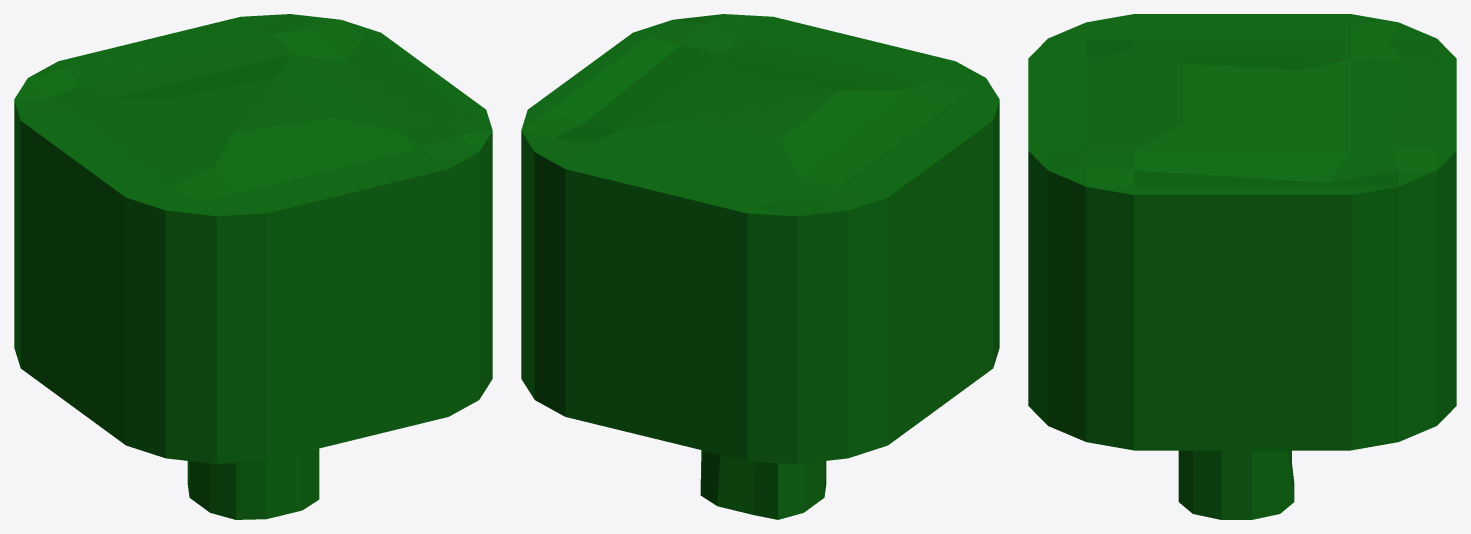
Rendered from BushBottom.fbx.
The picture shows the model from 3 angles, left to right: view 1: azimuth 30°, elevation 25°; view 2: azimuth 150°, elevation 25°; view 3: azimuth 270°, elevation 25°; orthographic projection. The views are drawn at different scales.
Parts seen in each view (by area): view 1: BushBottom; view 2: BushBottom; view 3: BushBottom.
Boxes of the visible parts, x1,y1,x2,y2 form: BushBottom: [14, 14, 492, 519]; BushBottom: [521, 14, 999, 519]; BushBottom: [1028, 14, 1456, 519].
Size of the model in its own units: 100 by 104 by 100.
